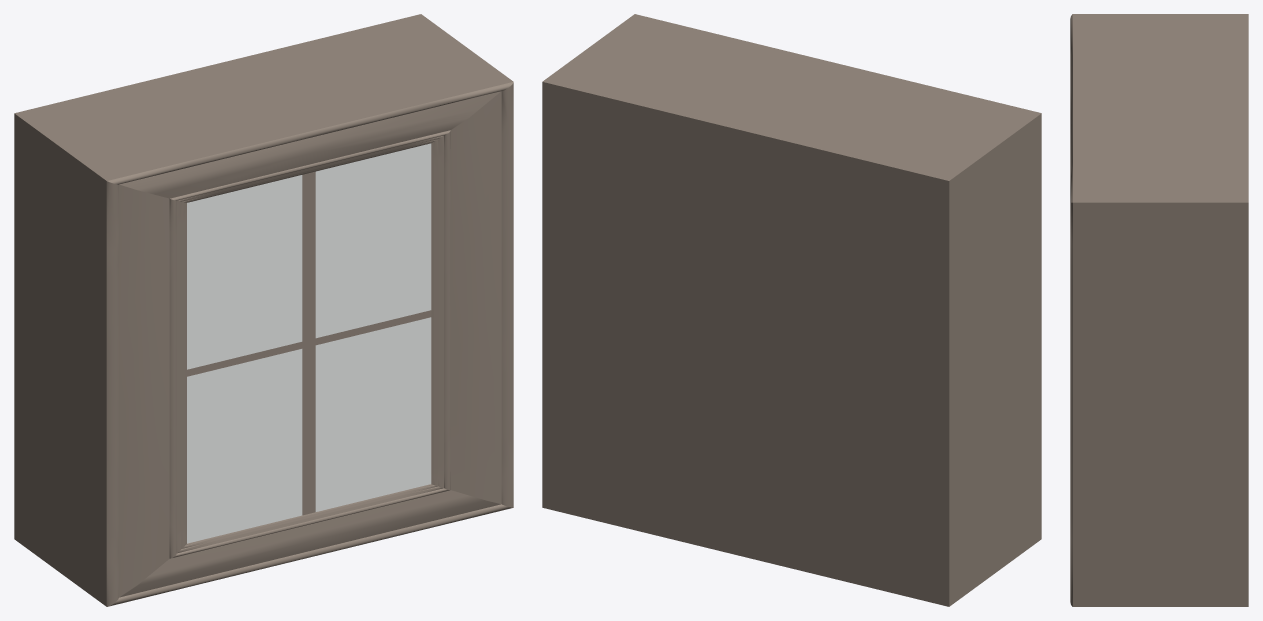
Rendered from Wall-Cabinet-with-Doors-Prepped-for-Glass.std.glb.
The picture shows the model from 3 angles, left to right: view 1: azimuth 30°, elevation 25°; view 2: azimuth 150°, elevation 25°; view 3: azimuth 270°, elevation 25°; orthographic projection. The views are drawn at different scales.
Visible parts, largest first — view 1: Wall-Cabinet-with-Doors-Prepped-for-Glass.std.001; view 2: Wall-Cabinet-with-Doors-Prepped-for-Glass.std.001; view 3: Wall-Cabinet-with-Doors-Prepped-for-Glass.std.001.
Part boxes in pixels (x1,y1,x2,y2): Wall-Cabinet-with-Doors-Prepped-for-Glass.std.001: (14,14,513,606); Wall-Cabinet-with-Doors-Prepped-for-Glass.std.001: (542,14,1041,606); Wall-Cabinet-with-Doors-Prepped-for-Glass.std.001: (1070,14,1248,606).
Bounding box in the file's own units: 0.762 × 0.762 × 0.3048.
